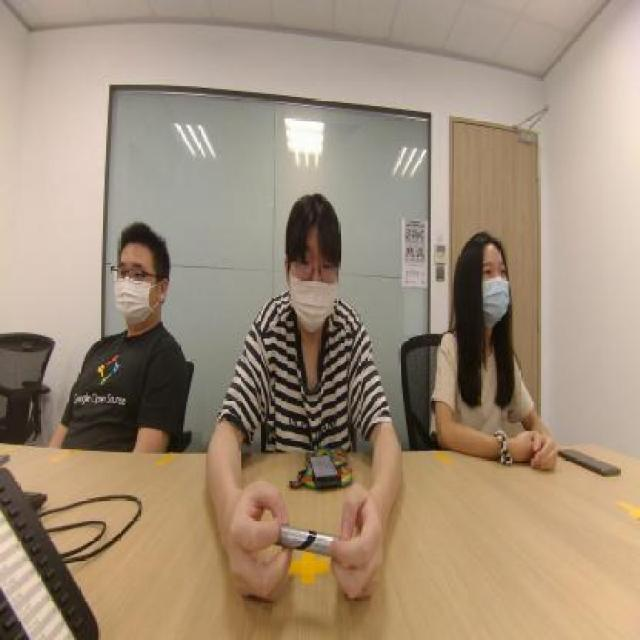Person: (212, 179, 399, 447), (409, 183, 557, 455), (42, 180, 189, 435)
